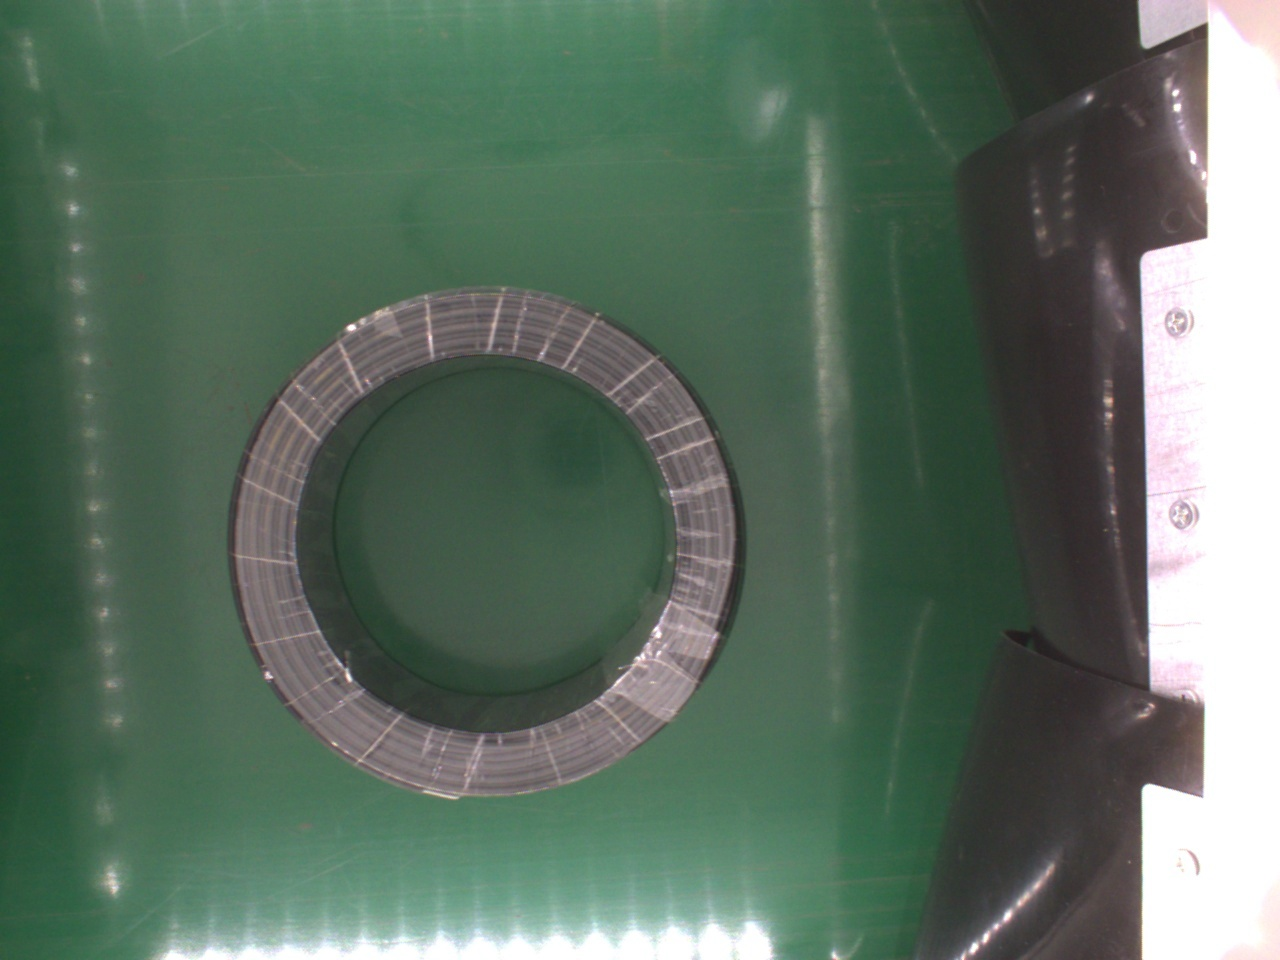black: (216, 285, 746, 804)
